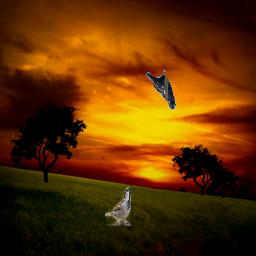Crow: (146, 70, 176, 110)
Sparrow: (105, 186, 131, 226)
